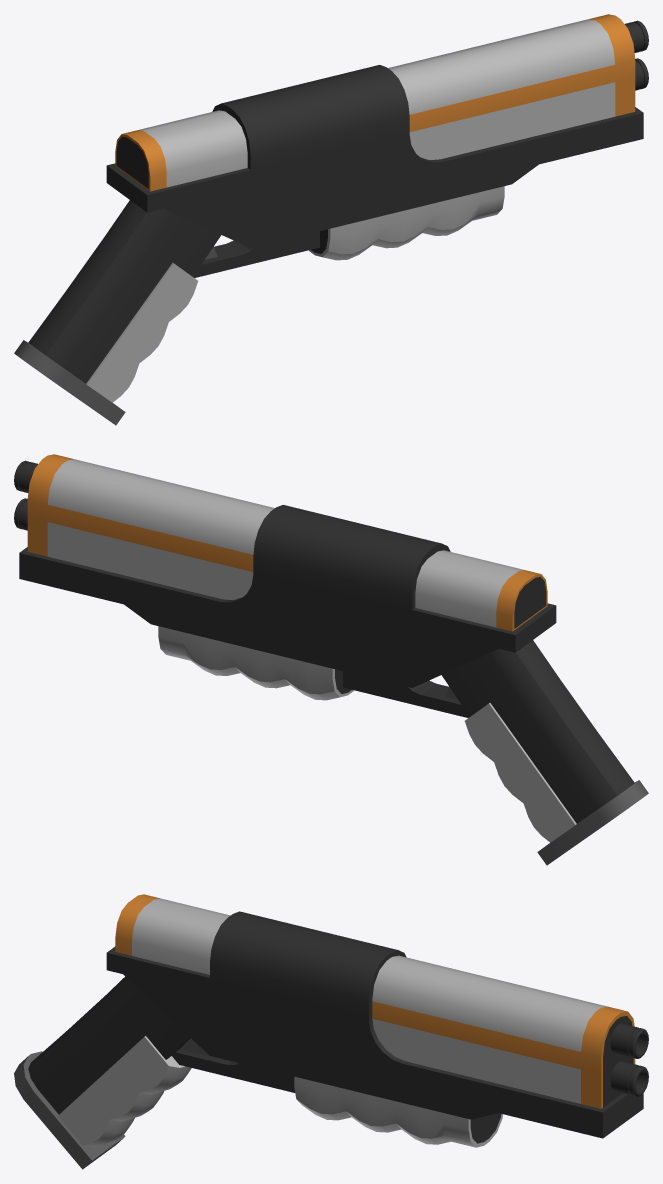
The model's file is Pistol_2.gltf.
3 renders of one model, top to bottom at view 1: azimuth 30°, elevation 25°; view 2: azimuth 150°, elevation 25°; view 3: azimuth 330°, elevation 25°, orthographic.
Parts seen in each view (by area): view 1: Pistol_2; view 2: Pistol_2; view 3: Pistol_2.
Part boxes in pixels (left/top/right/bottom): Pistol_2: left=14, top=14, right=648, bottom=425; Pistol_2: left=14, top=454, right=648, bottom=865; Pistol_2: left=14, top=894, right=648, bottom=1169.
Bounding box in the file's own units: 0.9899 × 0.4161 × 0.1124.
